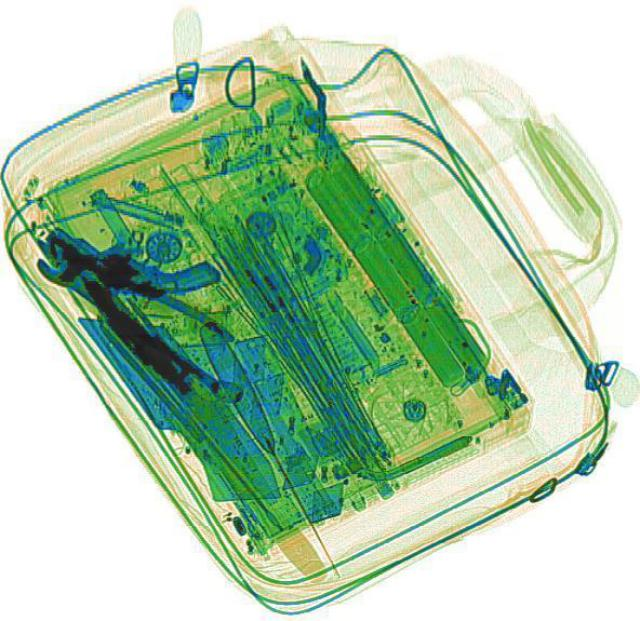Gun: (42, 180, 225, 325)
Knife: (190, 315, 352, 587)
Pliers: (19, 215, 241, 392)
Wrench: (22, 233, 258, 416)
